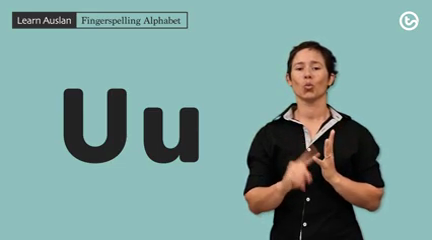U: (276, 124, 350, 196)
